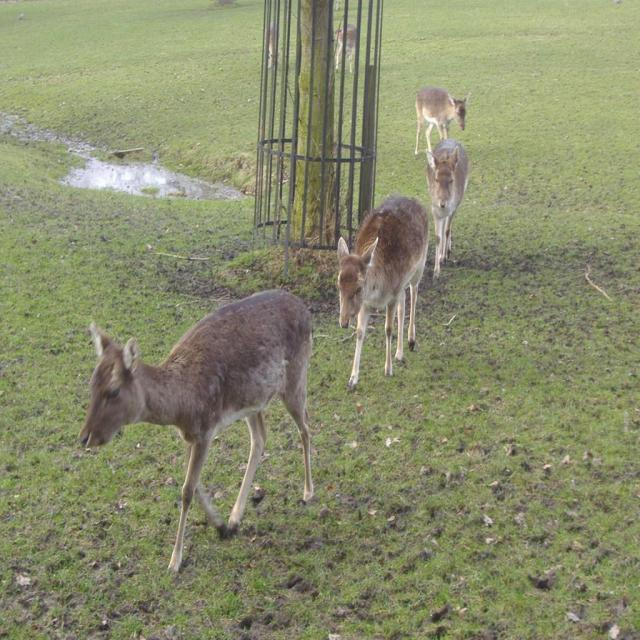Deer: (76, 283, 318, 580), (334, 189, 428, 395), (426, 137, 472, 281), (412, 85, 471, 159)
